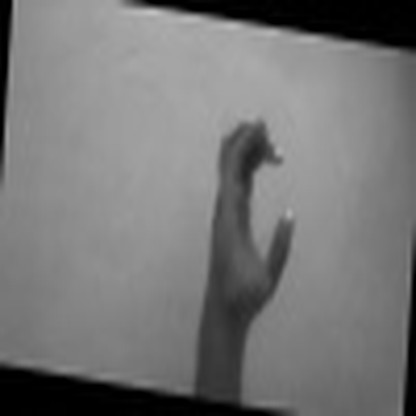c: (204, 109, 305, 307)
